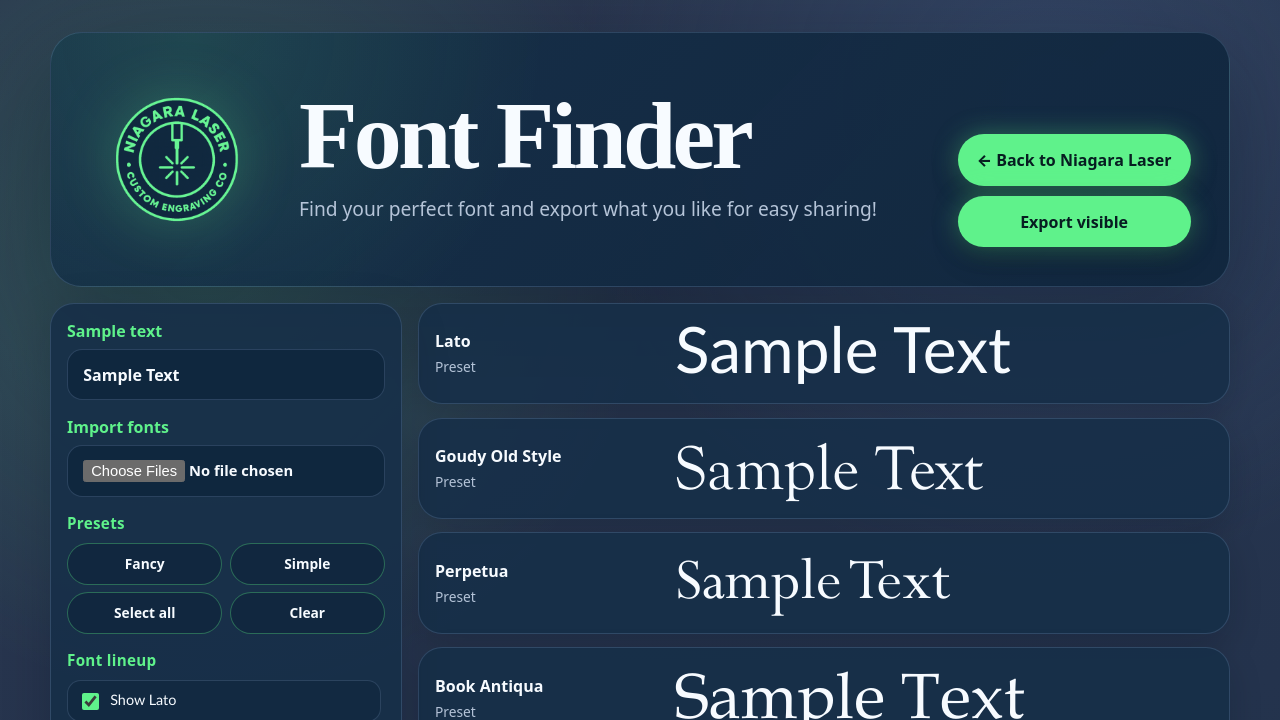
Font App › selects only fancy fonts with the Fancy preset
Click the button "Fancy": (145, 564) [67, 543, 222, 585]
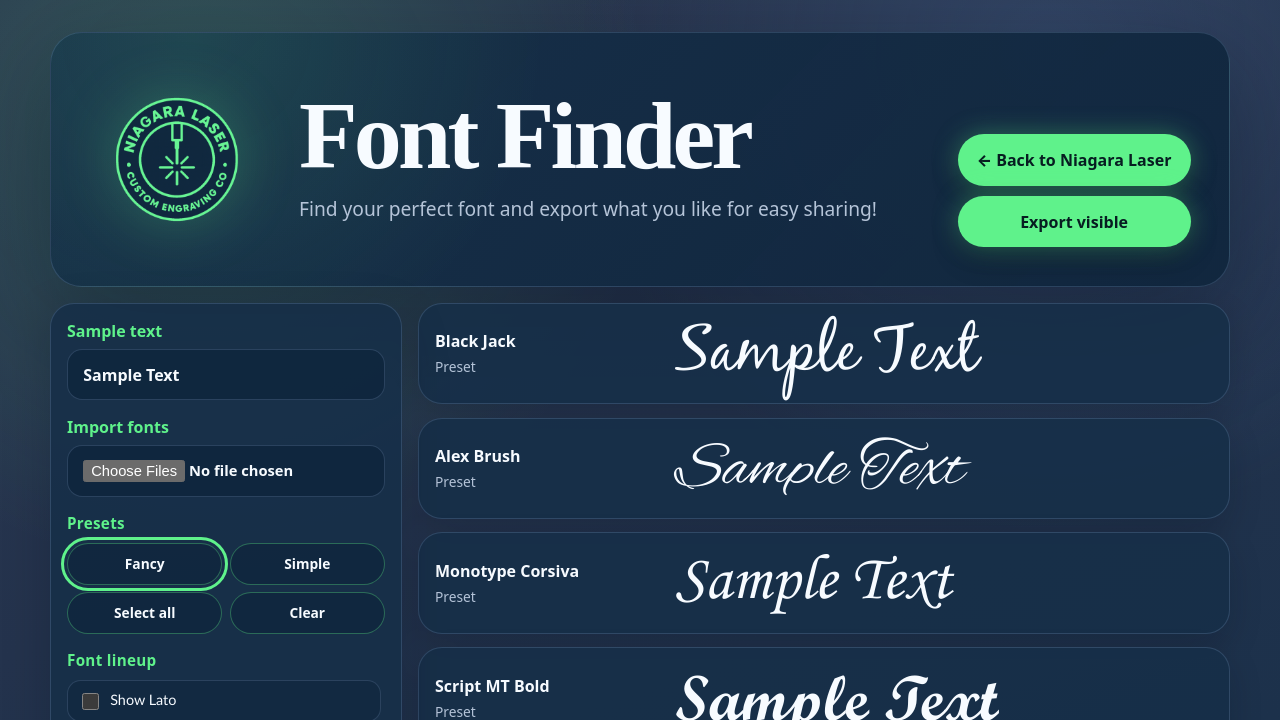
expect the text "Black Jack" is shown: met, box [435, 330, 516, 352]
expect the checkbox labelled "Show Lato" is not checked: met, box [82, 693, 99, 710]
